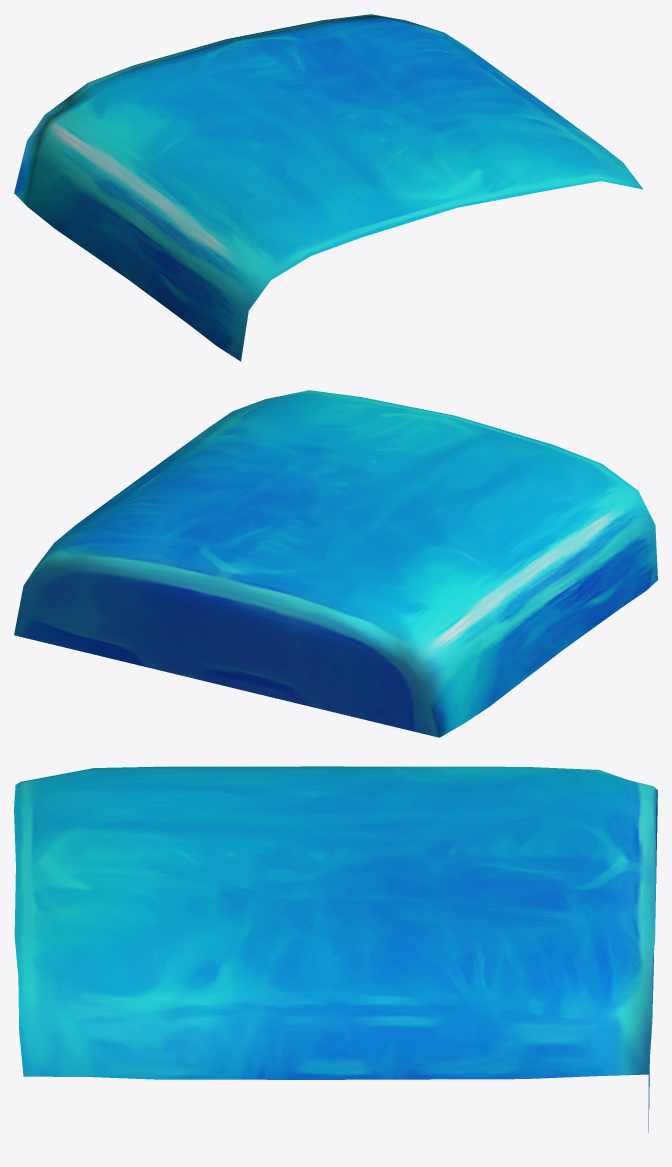
The model's file is IceCube2v2.fbx.
The picture shows the model from 3 angles, top to bottom: view 1: azimuth 30°, elevation 25°; view 2: azimuth 150°, elevation 25°; view 3: azimuth 270°, elevation 25°; orthographic projection. The views are drawn at different scales.
Parts seen in each view (by area): view 1: ice_cube_2v2; view 2: ice_cube_2v2; view 3: ice_cube_2v2.
Boxes of the visible parts, x1,y1,x2,y2 form: ice_cube_2v2: (14, 14, 642, 361); ice_cube_2v2: (14, 390, 657, 737); ice_cube_2v2: (14, 766, 657, 1132).
Size of the model in its own units: 101 by 26.63 by 94.9.
